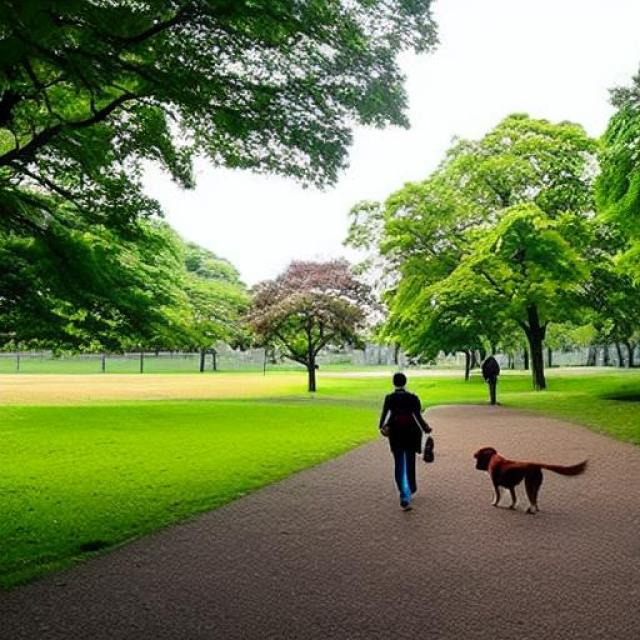Unleashed_Dog: (390, 428, 589, 514)
